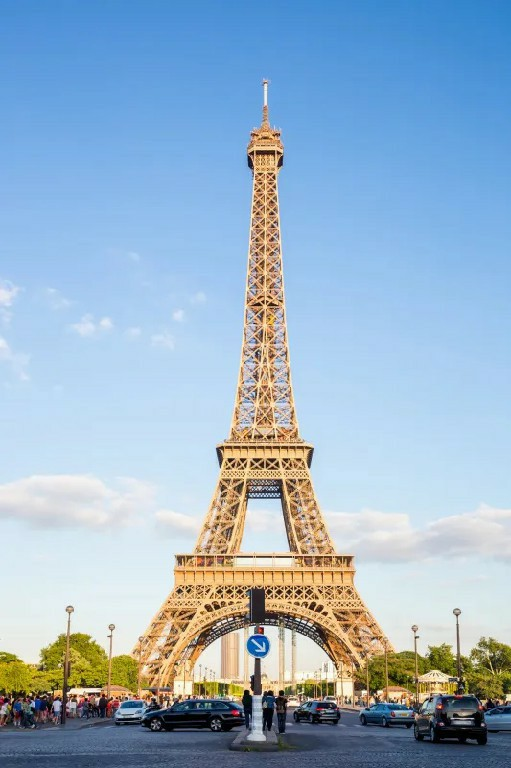Eiffel: (129, 78, 396, 689)
